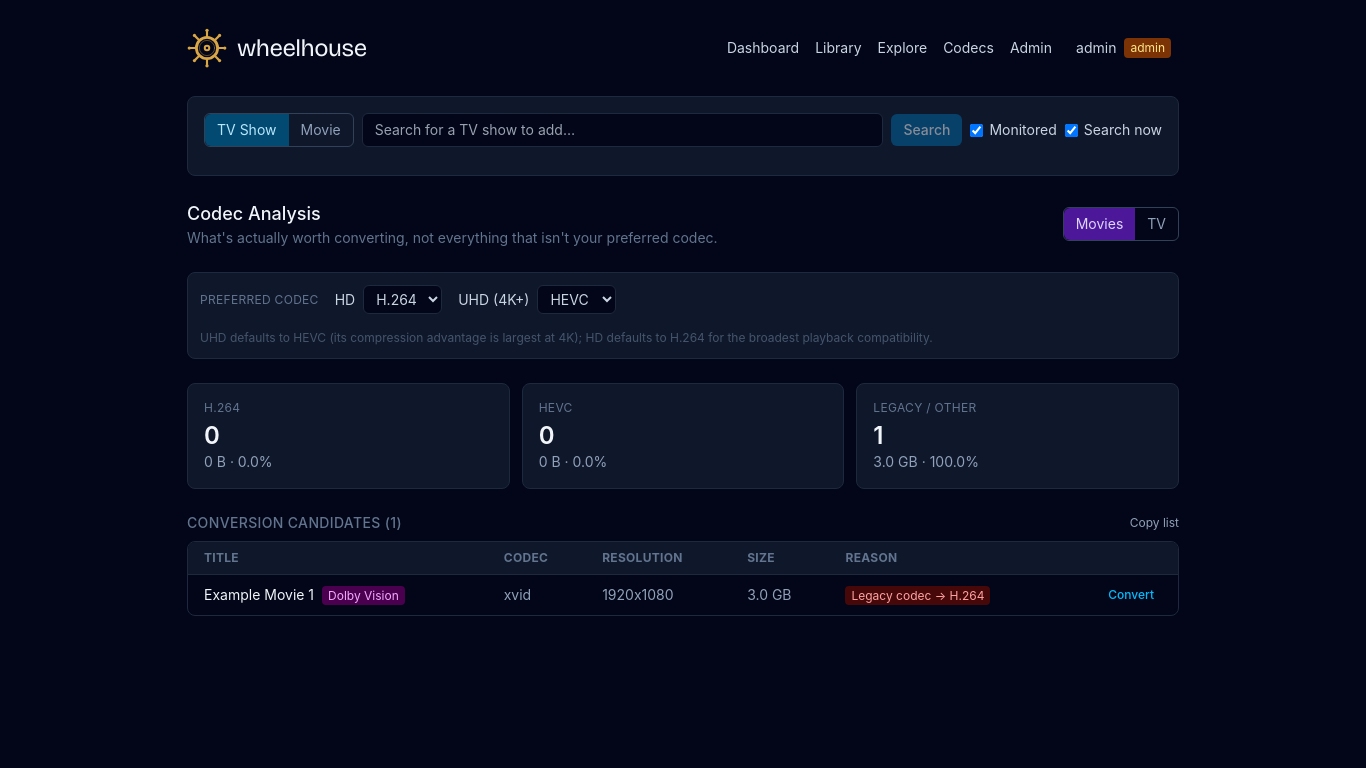
Scenario: Codecs › HDR and Dolby Vision › needs the acknowledgement ticked before it converts, and sends it
Click the button "Convert" at (1131, 595), box [1100, 583, 1162, 607]
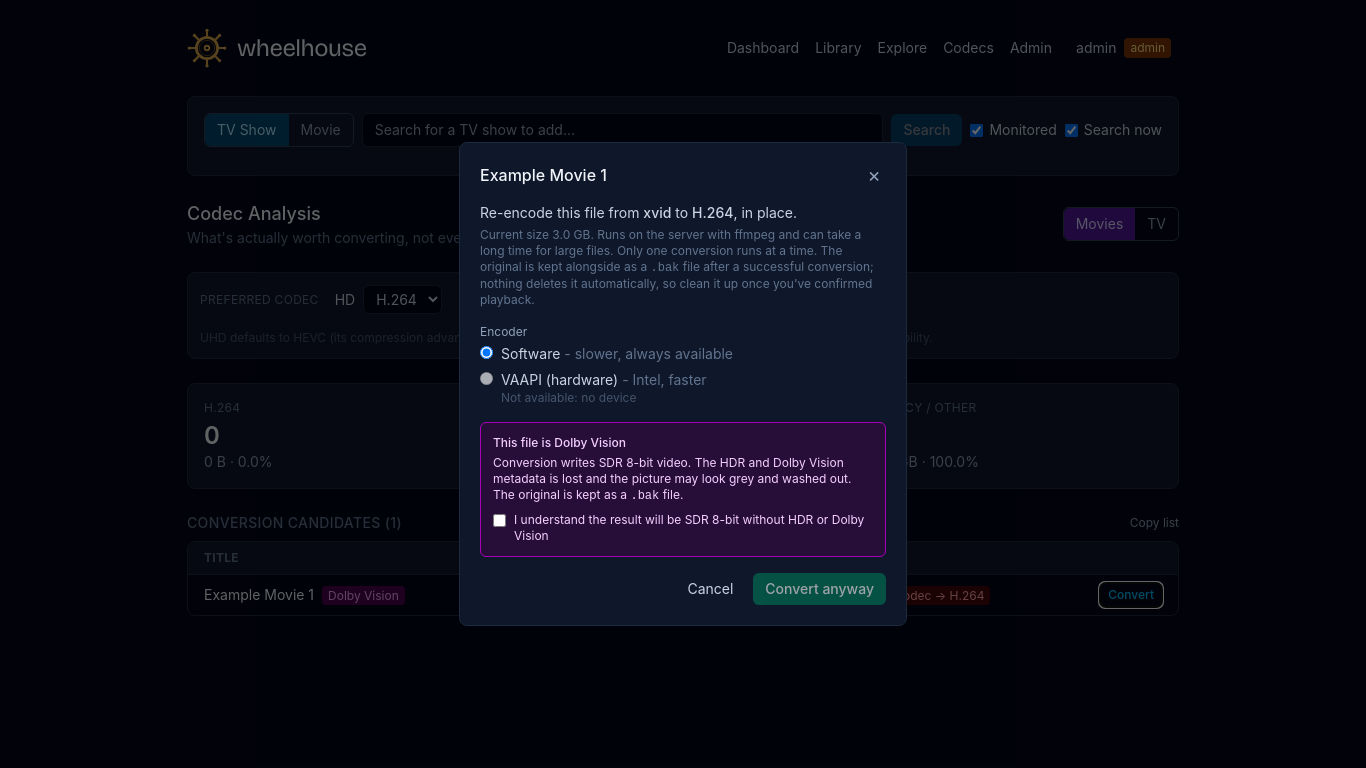
Result: the message shows "This file is Dolby Vision" at [493, 435, 626, 450]
Result: the button "Convert anyway" is disabled
Click the button "Convert anyway" at (820, 589), box [753, 573, 886, 605]
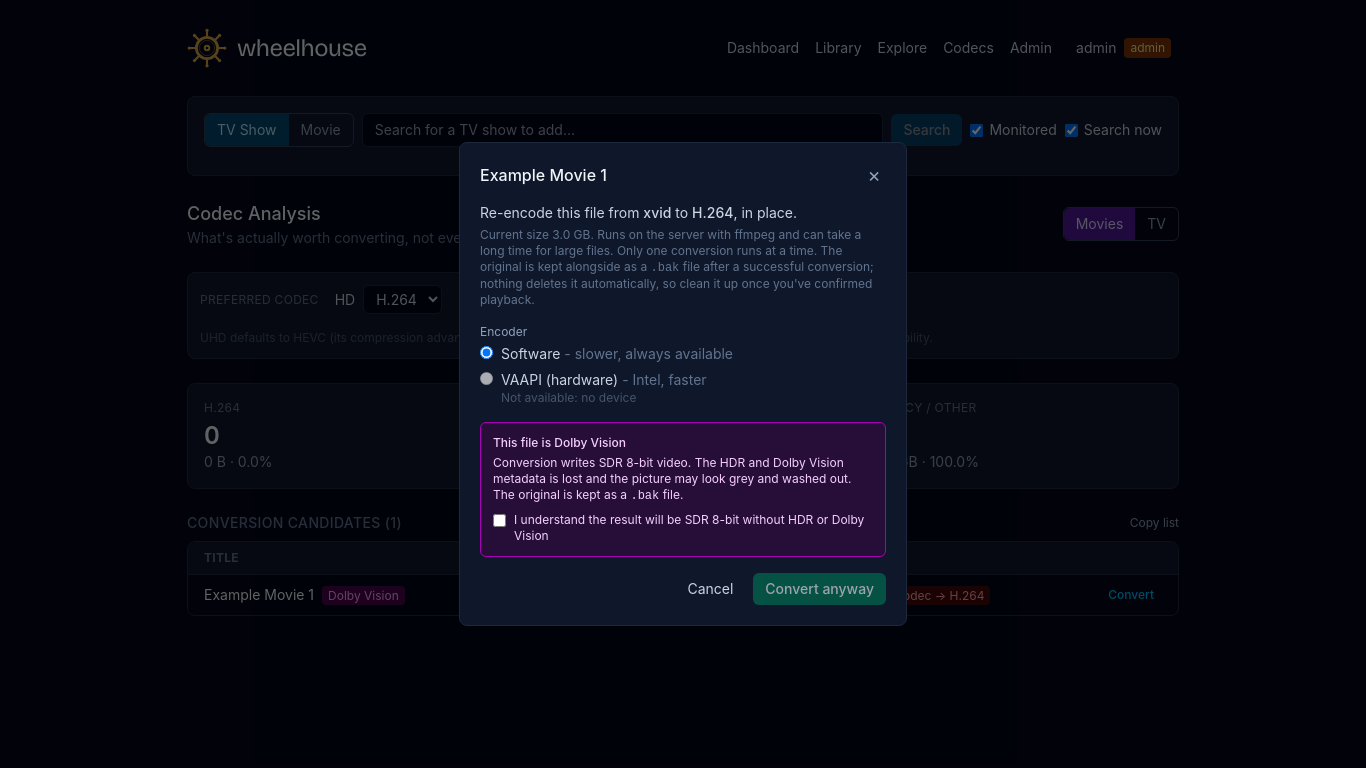
Click the checkbox labelled "SDR 8-bit" at (500, 520), box [493, 514, 506, 527]
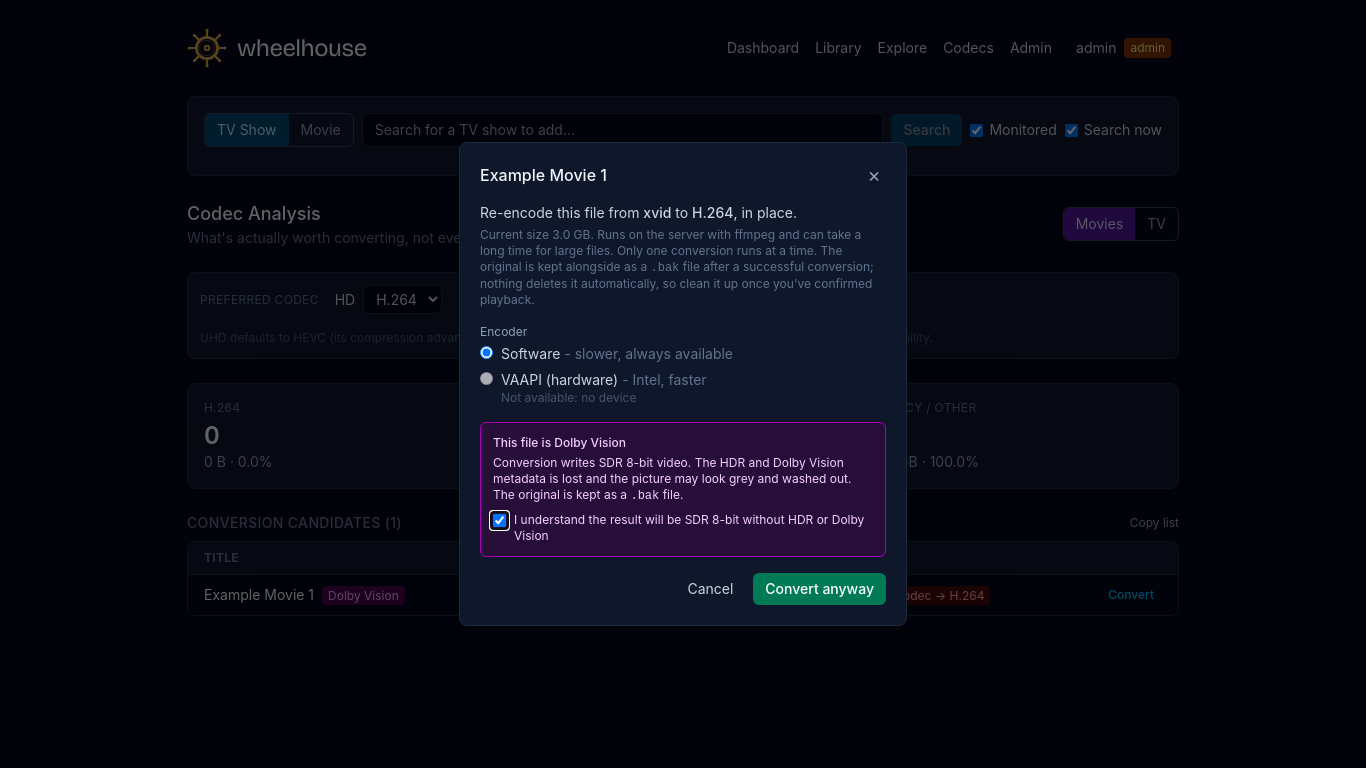
Result: the button "Convert anyway" is enabled
Click the button "Convert anyway" at (820, 589), box [753, 573, 886, 605]
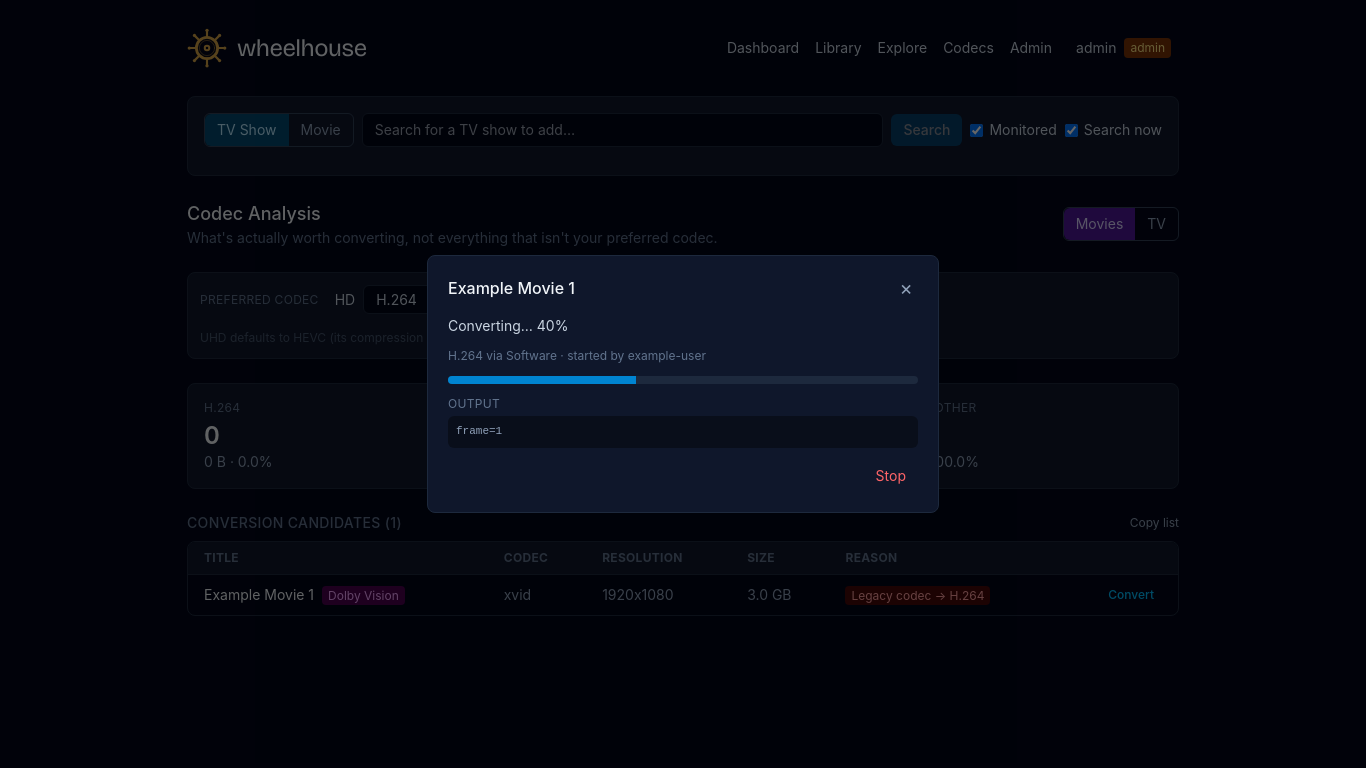
Result: the text "Converting… 40%" is shown at [448, 317, 568, 334]
